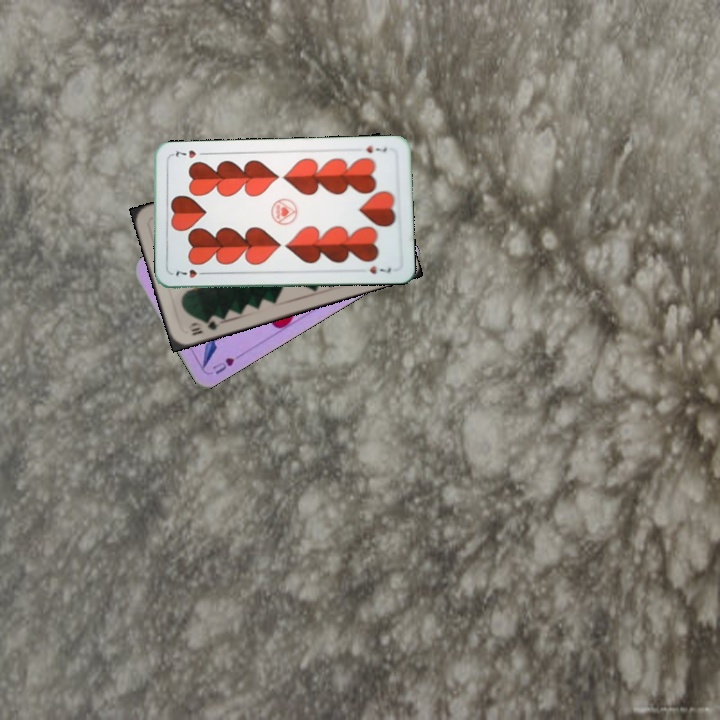G10: (187, 314, 223, 338)
H7: (172, 266, 210, 281), (362, 141, 389, 156)
HU: (208, 353, 237, 377)
